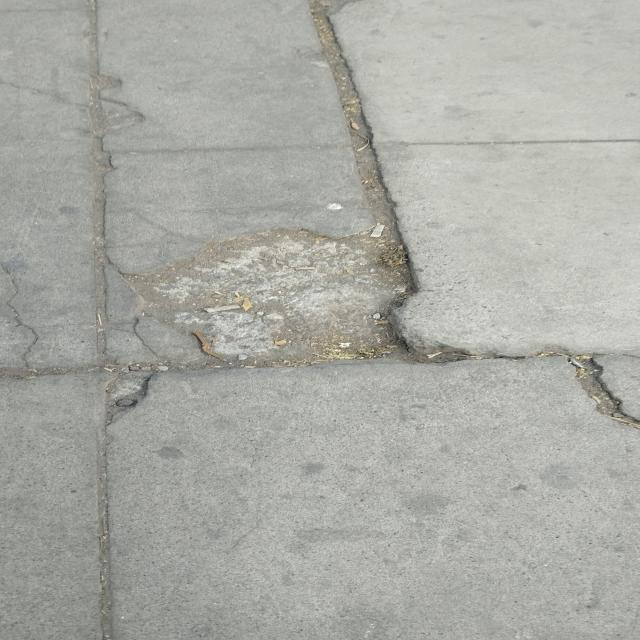hole: (130, 223, 420, 372)
